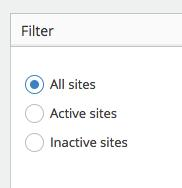radiobutton: (21, 72, 47, 100), (21, 102, 50, 126), (20, 130, 48, 154)
